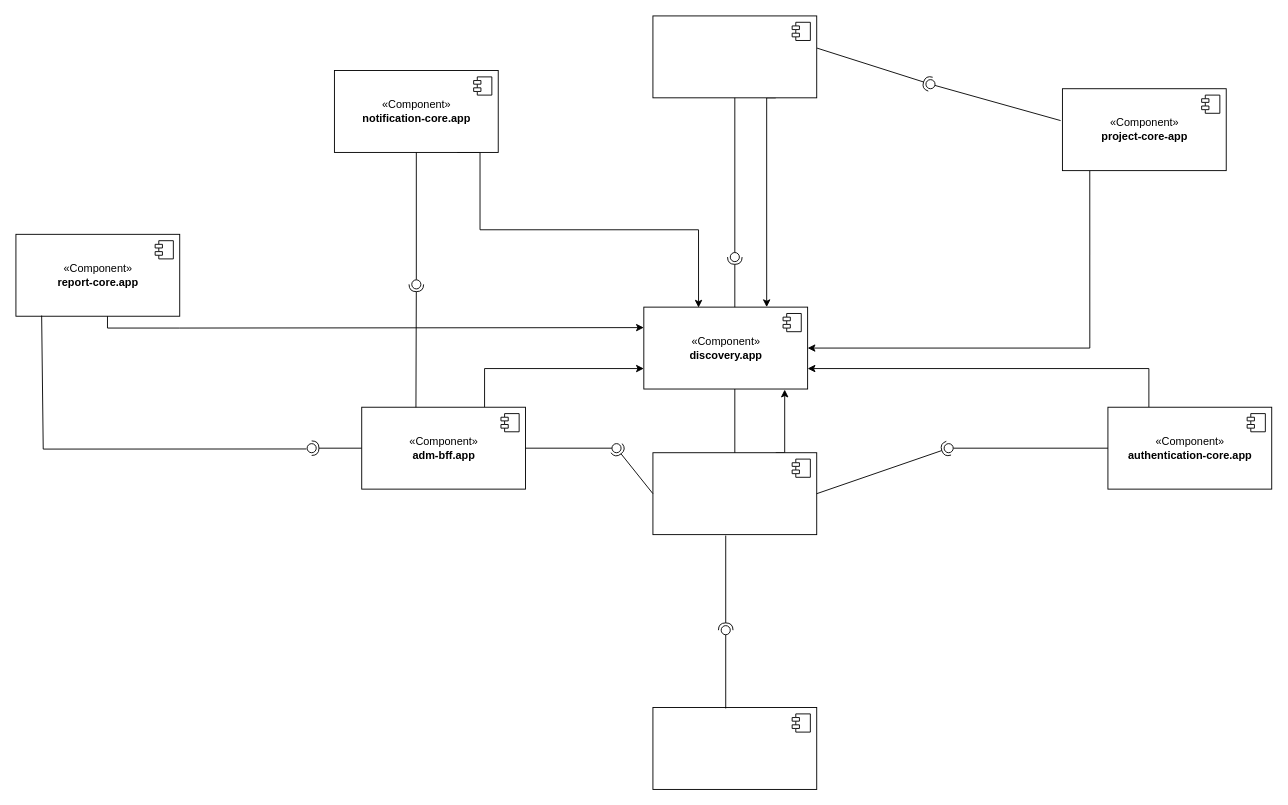
Some shapes in this 1288 by 805 pixel diagram are drawn without their labels. Here are the shapes that lost their labels. From the top down, the centre of each, then its label:
the point at 734,56: «Component» project-bff.app
the point at 734,493: «Component» gateway.app
the point at 734,748: «Component» frontend.app
